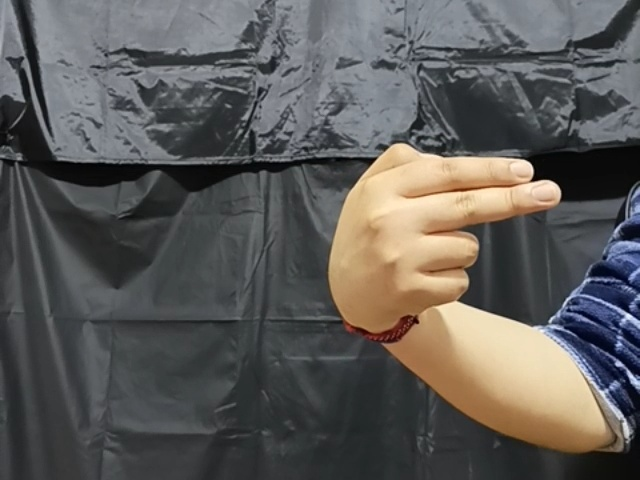H: (324, 139, 562, 328)
